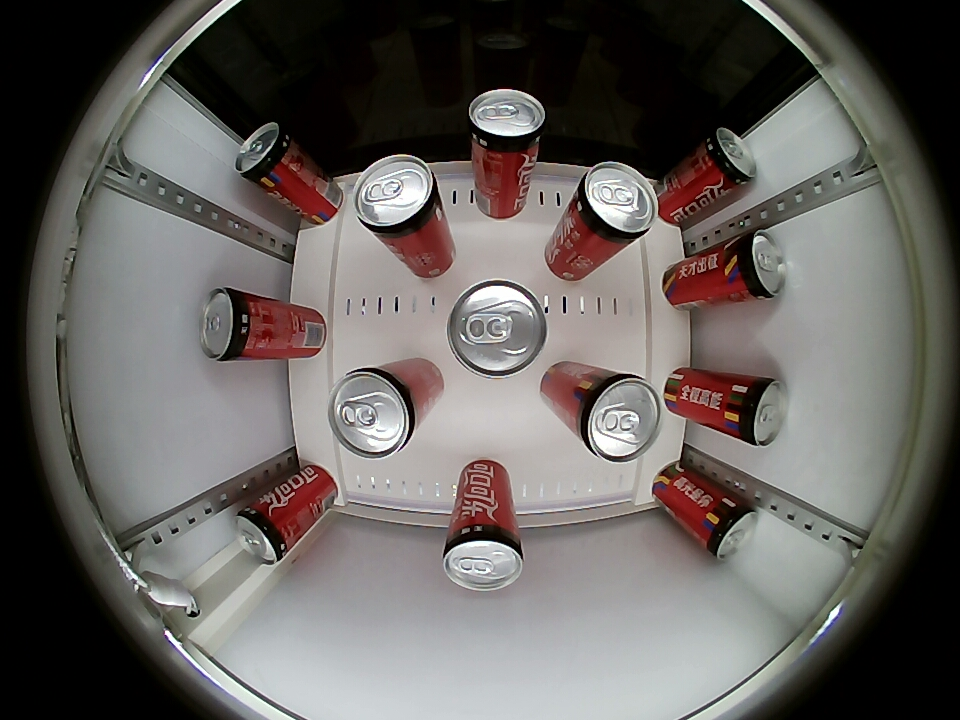lingdukele: (444, 278, 549, 379), (327, 366, 425, 459), (570, 372, 664, 463), (353, 154, 444, 242), (570, 162, 659, 247), (442, 519, 525, 592), (467, 89, 546, 159), (199, 287, 261, 362), (234, 122, 300, 189), (726, 230, 786, 303), (727, 375, 786, 447), (697, 492, 758, 559), (234, 500, 294, 565), (699, 127, 756, 192)
